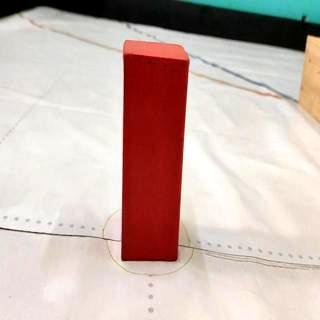redbox: (120, 36, 190, 261)
